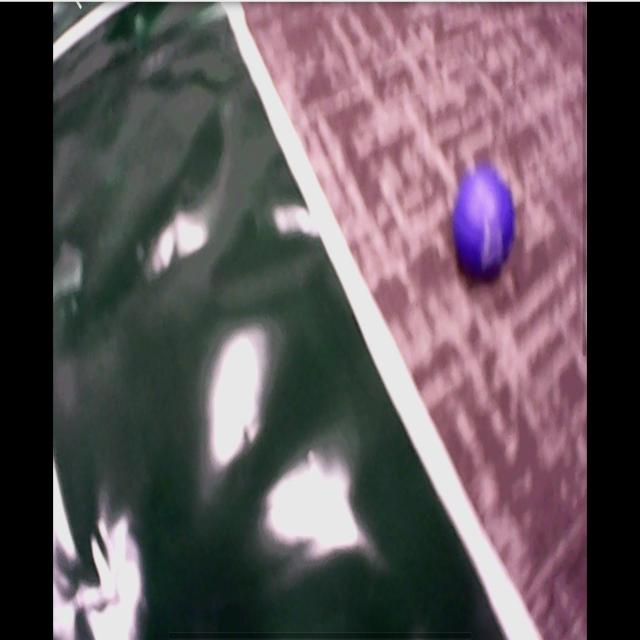ball: (453, 170, 520, 276)
